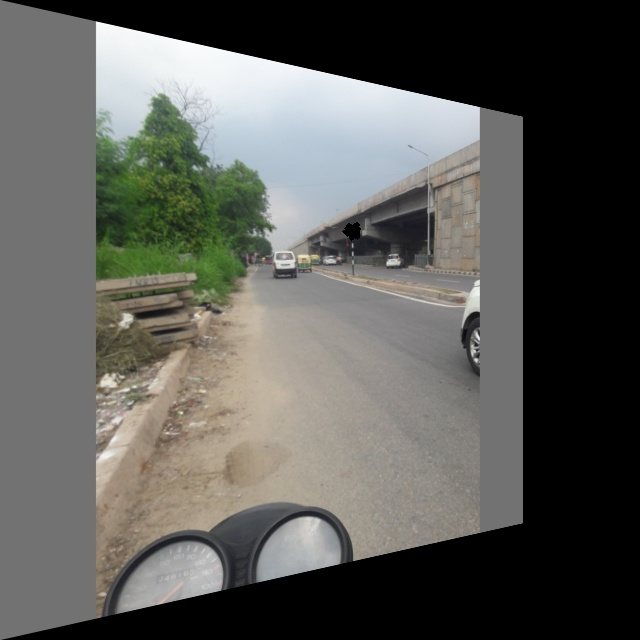Pass_Either_Side: (345, 224, 358, 238)
